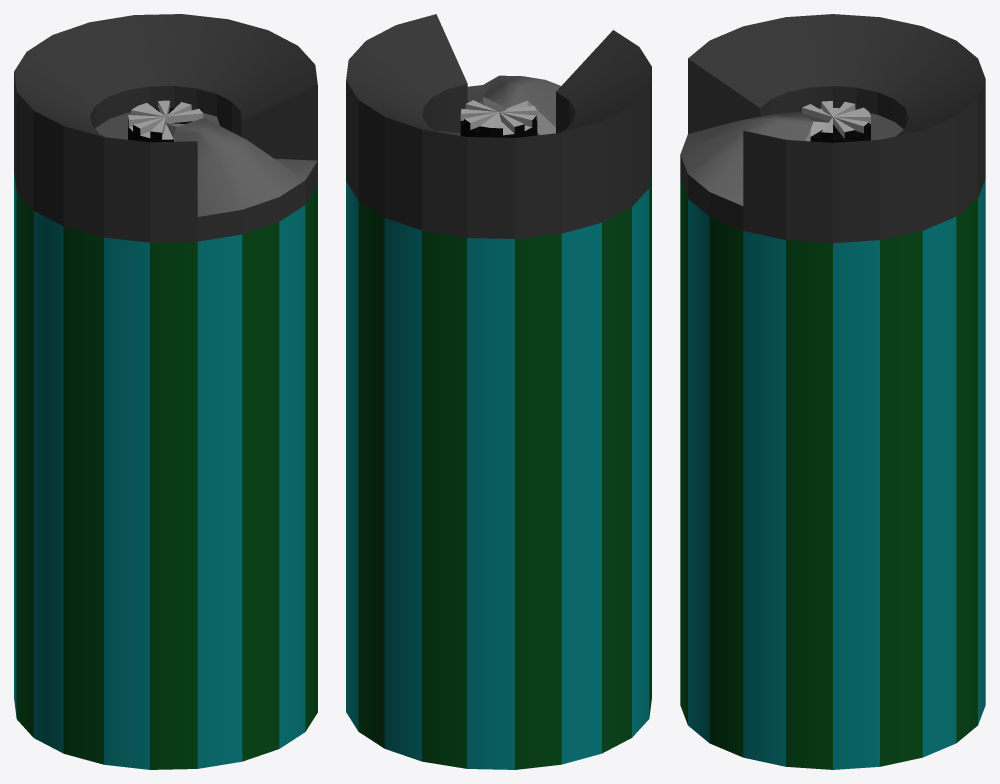
File: SM_Desodorante.fbx
3 renders of one model, left to right at view 1: azimuth 30°, elevation 25°; view 2: azimuth 150°, elevation 25°; view 3: azimuth 270°, elevation 25°, orthographic.
Visible parts, largest first — view 1: pCylinder1; view 2: pCylinder1; view 3: pCylinder1.
Boxes of the visible parts, x1,y1,x2,y2 form: pCylinder1: (14,14,317,769); pCylinder1: (346,14,651,769); pCylinder1: (680,14,985,769).
Size of the model in its own units: 41.97 by 95.17 by 41.97.
